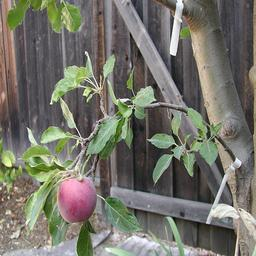apple: (55, 175, 96, 222)
